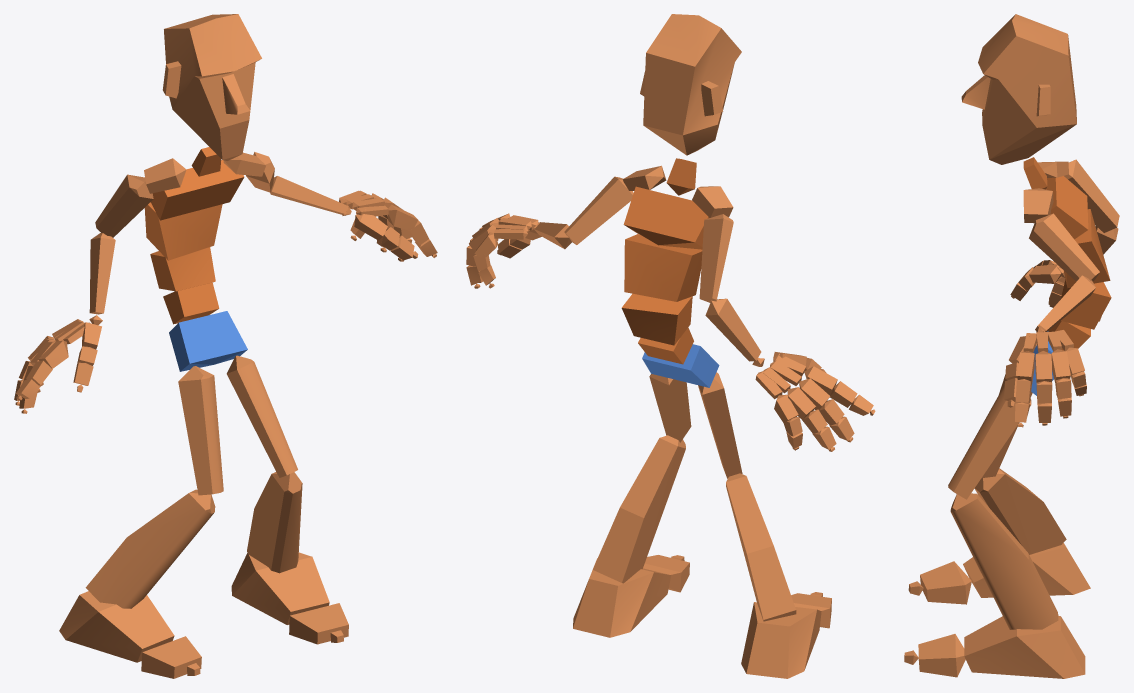
The picture shows the model from 3 angles, left to right: view 1: azimuth 30°, elevation 25°; view 2: azimuth 150°, elevation 25°; view 3: azimuth 270°, elevation 25°; orthographic projection.
Visible parts, largest first — view 1: BOPED_Head, BOPED_R_leg, BOPED_R_foot, BOPED_R_foot01, BOPED_L_leg, BOPED_R_legup, BOPED_L_legup, Bone01, Bone04, Bone05, Bone03, BOPED_R_arm_upper (+7 smaller); view 2: BOPED_Head, BOPED_L_leg, BOPED_R_foot01, BOPED_R_leg, BOPED_R_foot, Bone04, Bone05, Bone03, BOPED_R_legup, BOPED_R_arm_upper, BOPED_L_arm_upper, BOPED_L_legup (+9 smaller); view 3: BOPED_Head, BOPED_L_leg, BOPED_R_foot01, BOPED_R_leg, BOPED_L_legup, BOPED_R_foot, BOPED_L_arm_upper, Bone05, BOPED_R_foot_toe01, BOPED_R_foot_toe04, BOPED_R_arm_upper, Bone03 (+15 smaller).
Part boxes in pixels (left/top/right/bottom): BOPED_Head: left=162, top=14, right=261, bottom=160; BOPED_R_leg: left=85, top=489, right=215, bottom=608; BOPED_R_foot: left=59, top=591, right=174, bottom=662; BOPED_R_foot01: left=231, top=552, right=329, bottom=624; BOPED_L_leg: left=247, top=472, right=302, bottom=573; BOPED_R_legup: left=178, top=366, right=223, bottom=495; BOPED_L_legup: left=226, top=355, right=297, bottom=477; Bone01: left=169, top=311, right=247, bottom=371; Bone04: left=144, top=202, right=222, bottom=260; Bone05: left=151, top=160, right=244, bottom=220; Bone03: left=150, top=247, right=215, bottom=291; BOPED_R_arm_upper: left=95, top=174, right=153, bottom=237; BOPED_Head: left=640, top=14, right=741, bottom=155; BOPED_L_leg: left=592, top=435, right=685, bottom=583; BOPED_R_foot01: left=573, top=558, right=671, bottom=637; BOPED_R_leg: left=726, top=473, right=796, bottom=621; BOPED_R_foot: left=741, top=602, right=821, bottom=678; Bone04: left=624, top=234, right=702, bottom=301; Bone05: left=623, top=186, right=709, bottom=249; Bone03: left=621, top=293, right=692, bottom=345; BOPED_R_legup: left=698, top=372, right=742, bottom=478; BOPED_R_arm_upper: left=699, top=214, right=733, bottom=302; BOPED_L_arm_upper: left=564, top=176, right=633, bottom=244; BOPED_L_legup: left=649, top=374, right=691, bottom=442; BOPED_Head: left=961, top=14, right=1076, bottom=164; BOPED_L_leg: left=950, top=493, right=1058, bottom=629; BOPED_R_foot01: left=964, top=615, right=1085, bottom=678; BOPED_R_leg: left=974, top=468, right=1066, bottom=554; BOPED_L_legup: left=948, top=385, right=1031, bottom=499; BOPED_R_foot: left=963, top=543, right=1090, bottom=597; BOPED_L_arm_upper: left=1029, top=213, right=1099, bottom=281; Bone05: left=1046, top=176, right=1088, bottom=239; BOPED_R_foot_toe01: left=920, top=561, right=971, bottom=604; BOPED_R_foot_toe04: left=918, top=634, right=965, bottom=677; BOPED_R_arm_upper: left=1064, top=159, right=1119, bottom=232; Bone03: left=1060, top=279, right=1111, bottom=329.
Size of the model in its own units: 130 by 183 by 58.71.
